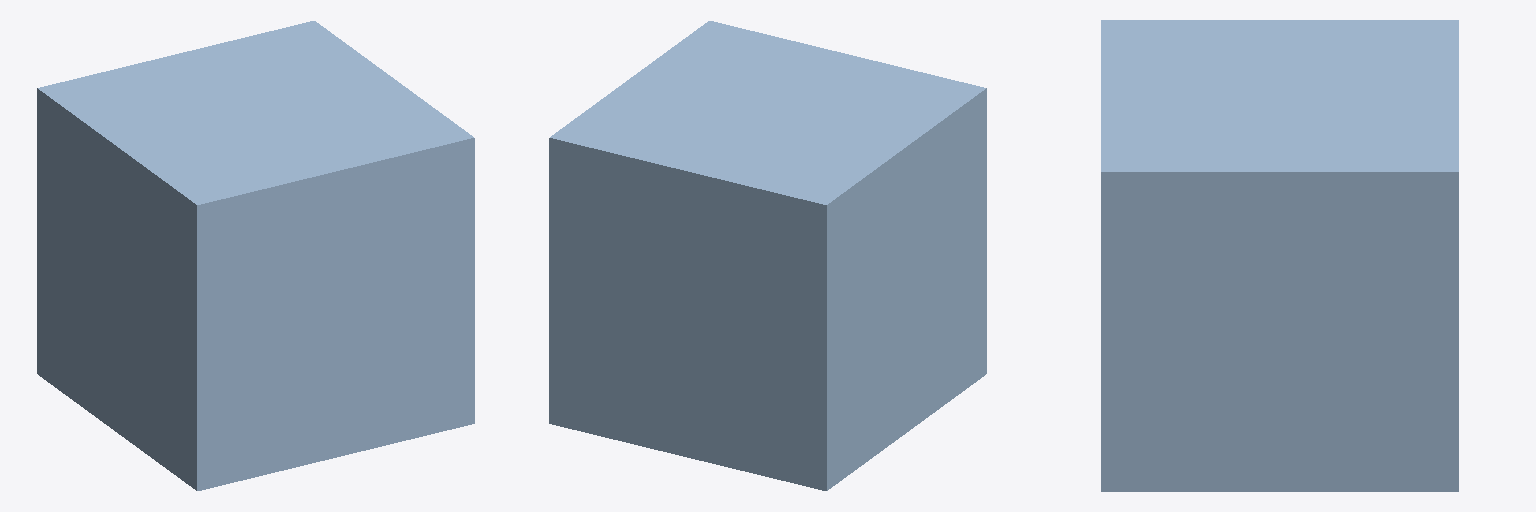
URDF robot description (box_0p3043_0p3043_0p3000):
<?xml version="1.0" ?>
<robot name="box_0p3043_0p3043_0p3000">
  <dynamics damping="0.5" friction="0.9"/>
  <link name="box_0p3043_0p3043_0p3000_link">
    <inertial>
      <mass value="0.1"/>
      <origin xyz="0 0 0"/>
      <inertia ixx="0.002" ixy="0" ixz="0" iyy="0.002" iyz="0" izz="0.002"/>
    </inertial>
    <contact>
      <lateral_friction value="0.9"/>
      <rolling_friction value="0.5"/>
      <stiffness value="30000"/>
      <damping value="1000"/>
    </contact>
    <visual>
      <origin rpy="0 0 0" xyz="0 0 0"/>
      <geometry>
        <mesh filename="box_0p3043_0p3043_0p3000.obj" scale="1.0 1.0 1.0"/>
      </geometry>
      <material name="mat">
        <color rgba="0.7 0.8 0.9 0.7"/>
      </material>
    </visual>
    <collision name="box_0p3043_0p3043_0p3000">
      <origin rpy="0 0 0" xyz="0 0 0"/>
      <geometry>
        <mesh filename="box_0p3043_0p3043_0p3000.obj" scale="1.0 1.0 1.0"/>
      </geometry>
    </collision>
  </link>
</robot>

--- Render facts (derived) ---
3 views of the same robot in one strip: view 1: azimuth 30°, elevation 25°; view 2: azimuth 150°, elevation 25°; view 3: azimuth 270°, elevation 25° (orthographic).
Robot: box_0p3043_0p3043_0p3000 — 1 links, 0 joints (none); root link box_0p3043_0p3043_0p3000_link; default pose: all joints at 0.
Links seen in each view (by area): view 1: box_0p3043_0p3043_0p3000_link; view 2: box_0p3043_0p3043_0p3000_link; view 3: box_0p3043_0p3043_0p3000_link.
Link boxes in pixels (left/top/right/bottom): box_0p3043_0p3043_0p3000_link: left=37, top=21, right=474, bottom=490; box_0p3043_0p3043_0p3000_link: left=549, top=21, right=986, bottom=490; box_0p3043_0p3043_0p3000_link: left=1101, top=20, right=1458, bottom=491.
Size in the robot's own frame: 0.3043 by 0.3043 by 0.3 metres.
Meshes: 1 distinct files referenced, 1 mesh visuals loaded (1 OBJ).
